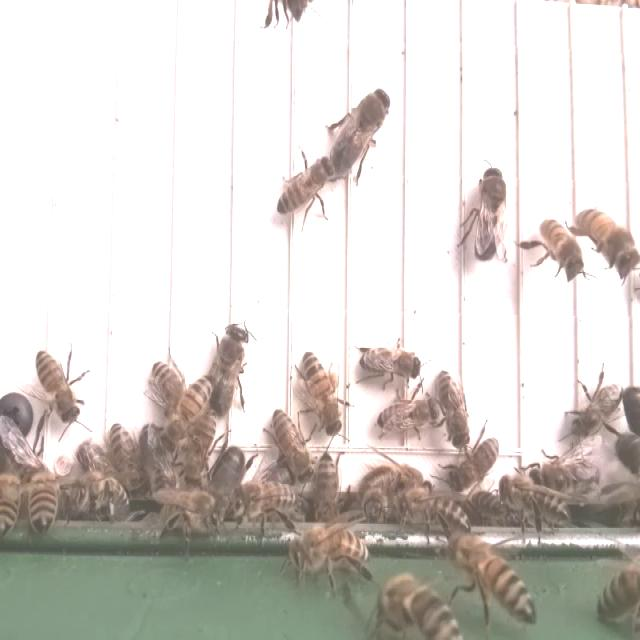Drone: (325, 85, 395, 181), (466, 162, 513, 267), (205, 321, 251, 420)
Worker: (448, 529, 535, 624), (273, 146, 336, 225), (391, 480, 470, 538), (224, 472, 299, 533), (562, 379, 627, 446), (298, 346, 344, 440), (33, 345, 83, 429), (497, 471, 573, 526), (165, 369, 212, 457), (442, 431, 503, 498), (370, 387, 437, 446), (349, 338, 432, 385), (65, 472, 130, 531), (576, 207, 636, 269), (361, 454, 436, 503), (269, 403, 312, 485), (434, 364, 475, 449), (289, 528, 370, 567), (106, 418, 143, 498), (536, 219, 581, 279), (26, 453, 57, 536), (149, 358, 188, 414), (314, 448, 341, 521)
